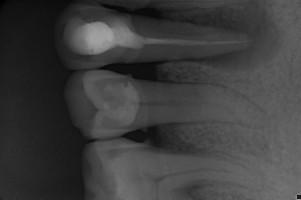Endo-Periodontal Lesion: (180, 180, 213, 200)
Furcation Involvement: (161, 0, 285, 71)
